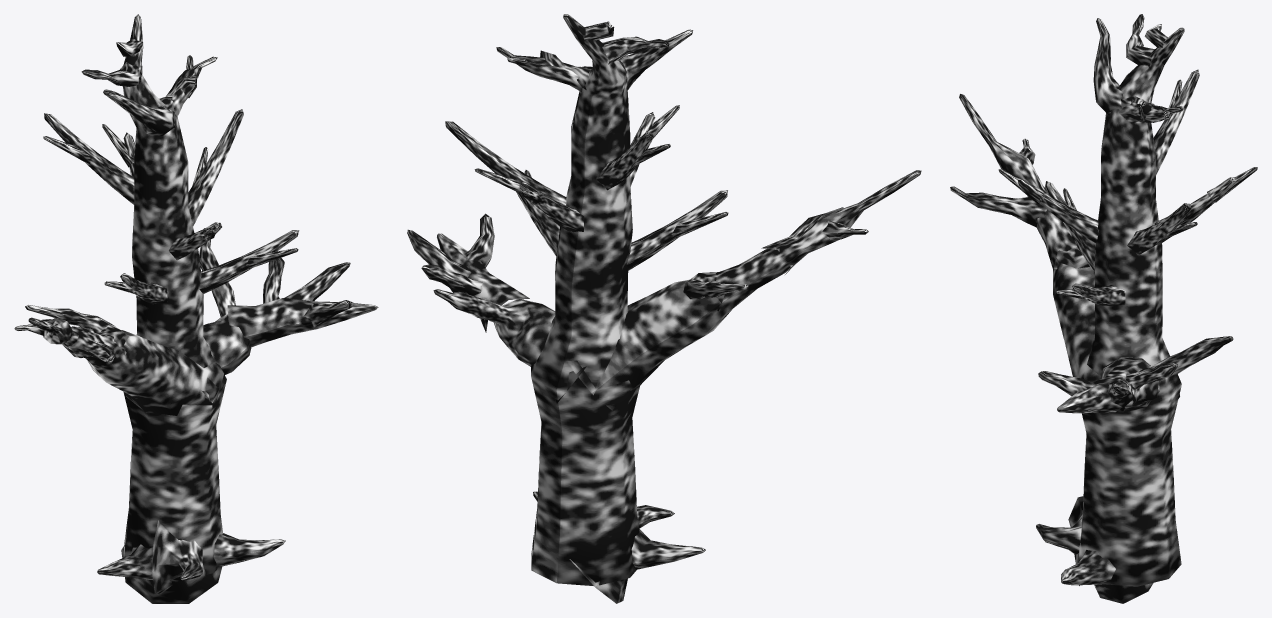
File: AraTree04a.glb
3 views of the same model, side by side, from view 1: azimuth 30°, elevation 25°; view 2: azimuth 150°, elevation 25°; view 3: azimuth 270°, elevation 25° (orthographic). The views are drawn at different scales.
Parts seen in each view (by area): view 1: AraTree04a_limbs; view 2: AraTree04a_limbs; view 3: AraTree04a_limbs.
Part boxes in pixels (x1,y1,x2,y2): AraTree04a_limbs: [14, 14, 378, 603]; AraTree04a_limbs: [407, 14, 921, 603]; AraTree04a_limbs: [950, 14, 1257, 603].
Size of the model in its own units: 6.22 by 8.39 by 4.13.
Materials: 1 (1 with a texture image).
